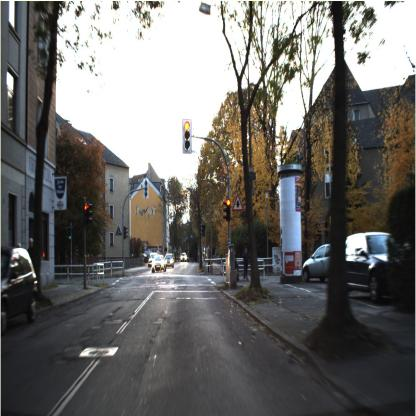priority at next intersection: (231, 192, 244, 212)
